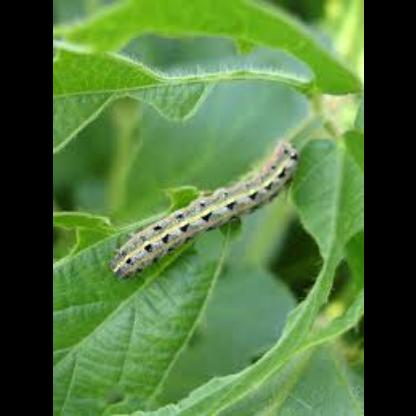agujero: (53, 72, 322, 226), (190, 211, 306, 411), (115, 37, 320, 88), (317, 224, 363, 328), (52, 223, 86, 271)
oruga: (104, 126, 306, 288)
